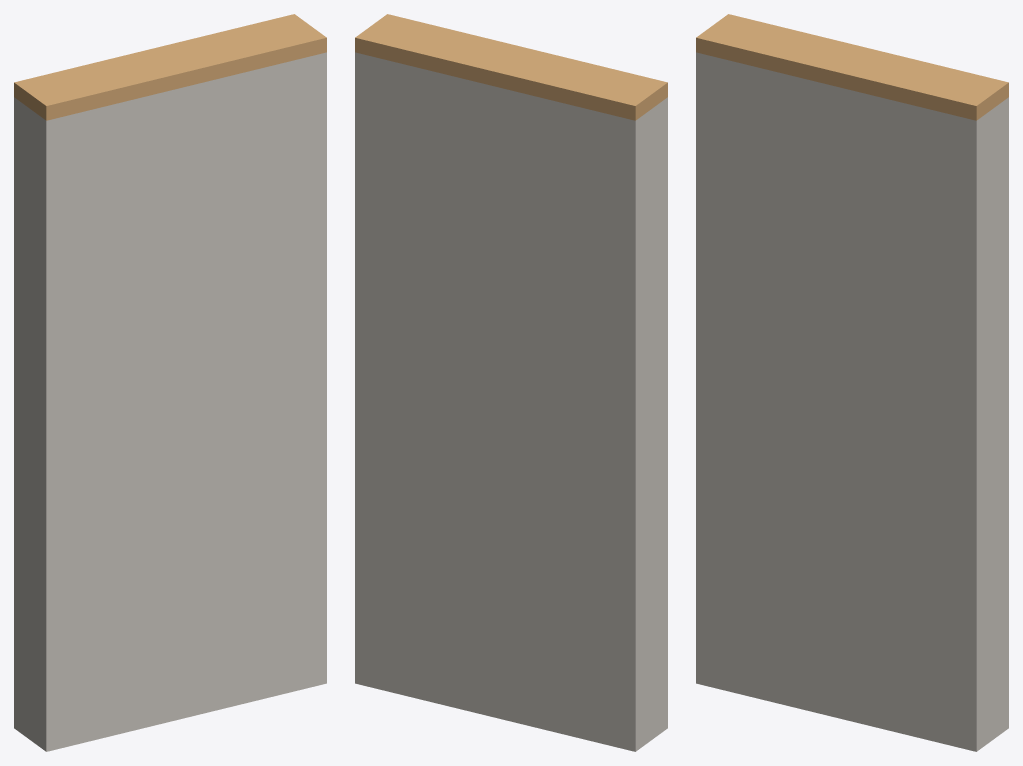
File: raum_wand.glb
The picture shows the model from 3 angles, left to right: view 1: azimuth 30°, elevation 25°; view 2: azimuth 150°, elevation 25°; view 3: azimuth 330°, elevation 25°; orthographic projection.
Parts seen in each view (by area): view 1: raum_wand; view 2: raum_wand; view 3: raum_wand.
Boxes of the visible parts, box(x1,y1,x2,y2) form: raum_wand: box(14, 14, 326, 751); raum_wand: box(355, 14, 667, 751); raum_wand: box(696, 14, 1008, 751).
Bounding box in the file's own units: 1 × 2.2 × 0.2.
